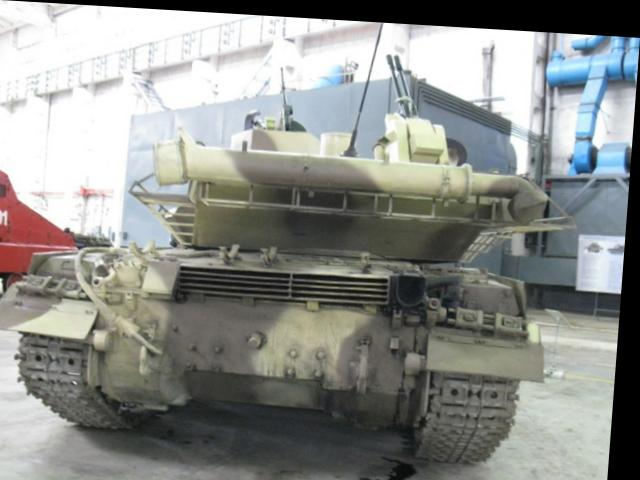tank: (32, 100, 535, 456)
